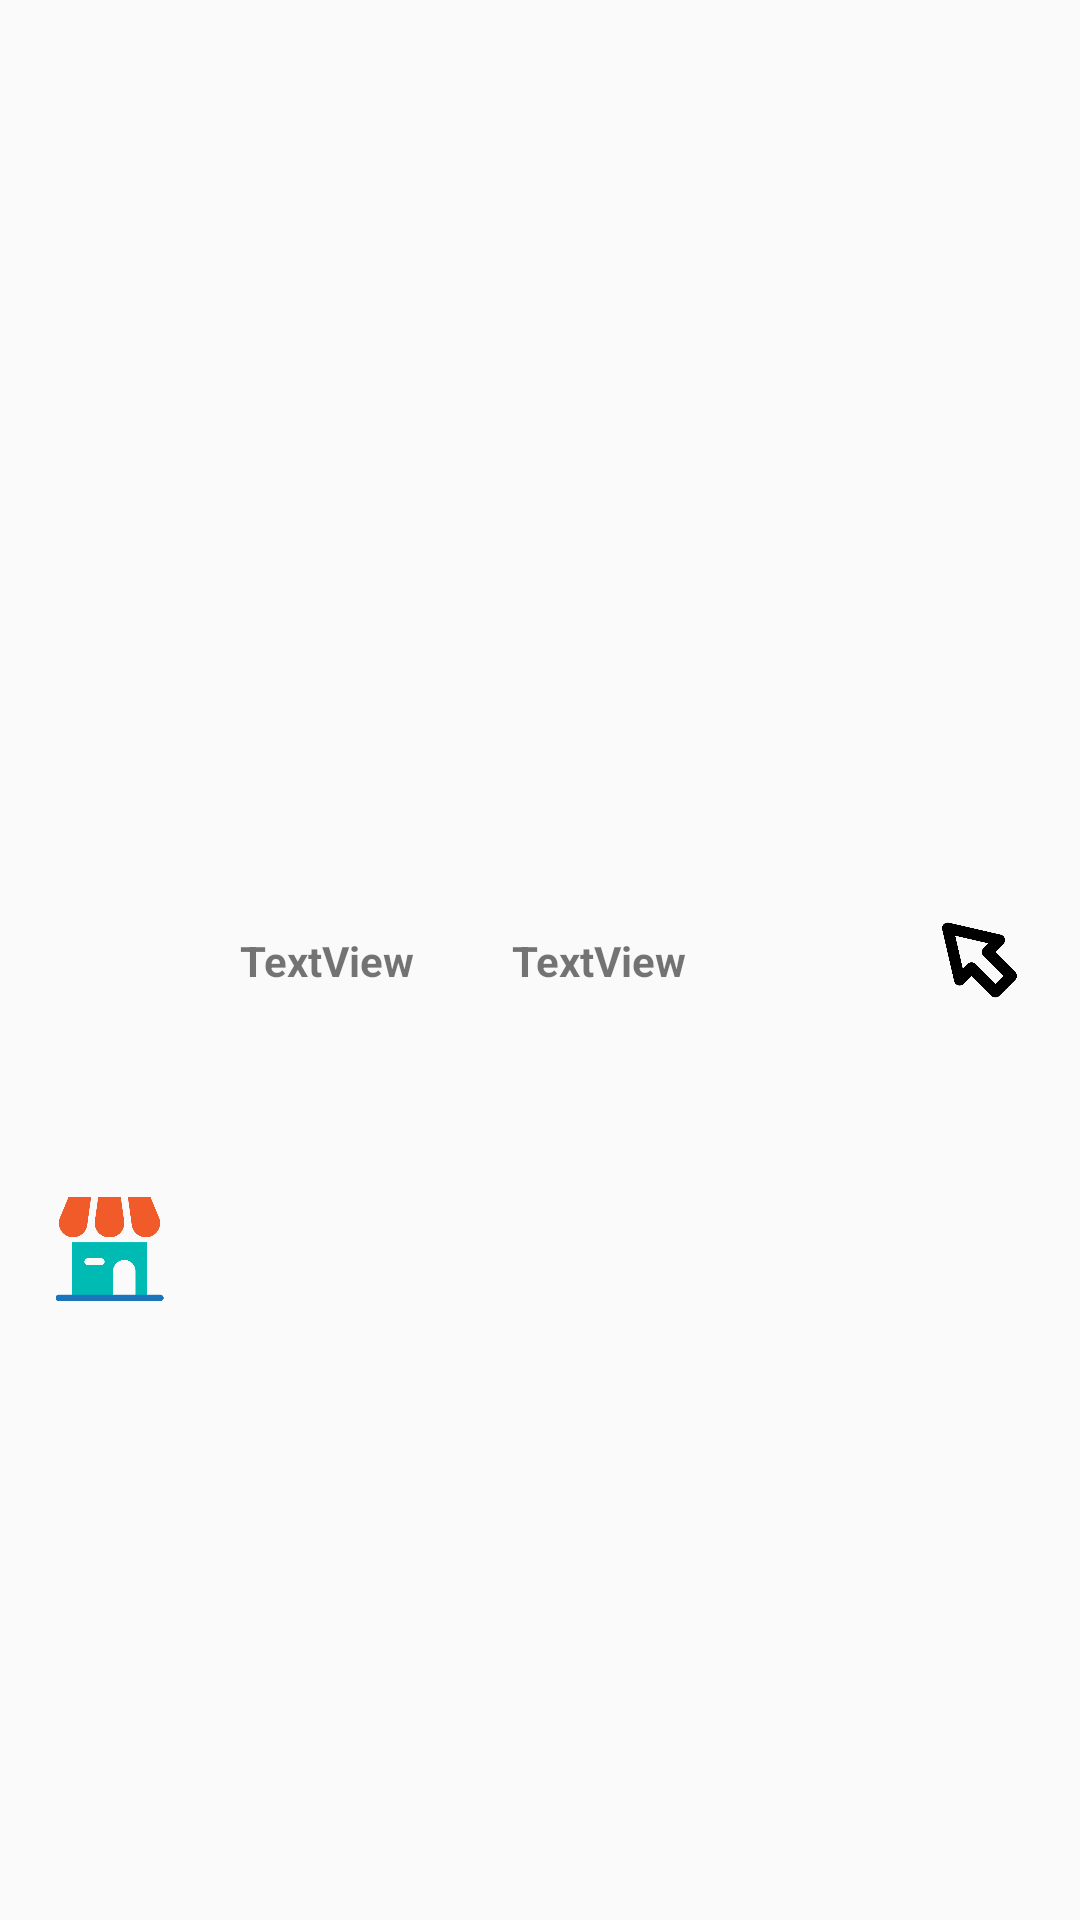

Where to tap for icons on this 1080x1920 app screen, as [x,y]:
click: [979,960]
store: [110,1249]
